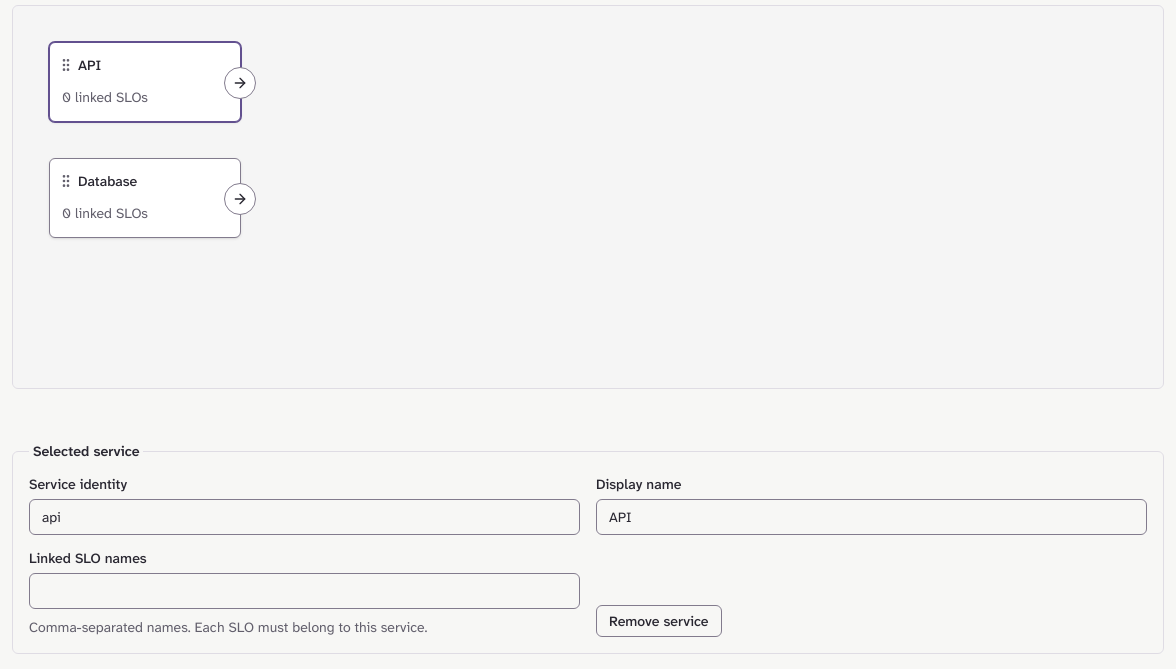
keyboard movement and non-drag connection form edit a draft without network writes
The width and height of the screenshot is (1176, 669).
Press ArrowRight in the button with aria-label "Move service api", box [50,43,240,87]
(page scrolled)
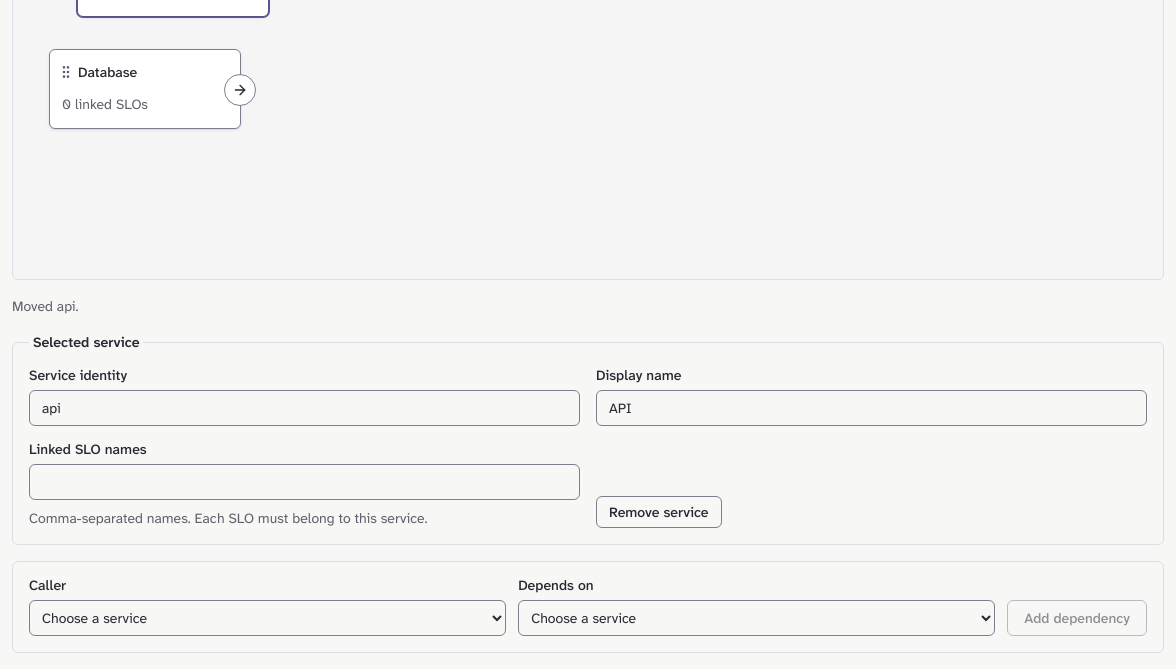
Select "API (api)" in the dropdown labelled "Caller" at (268, 618), box [29,600,506,636]
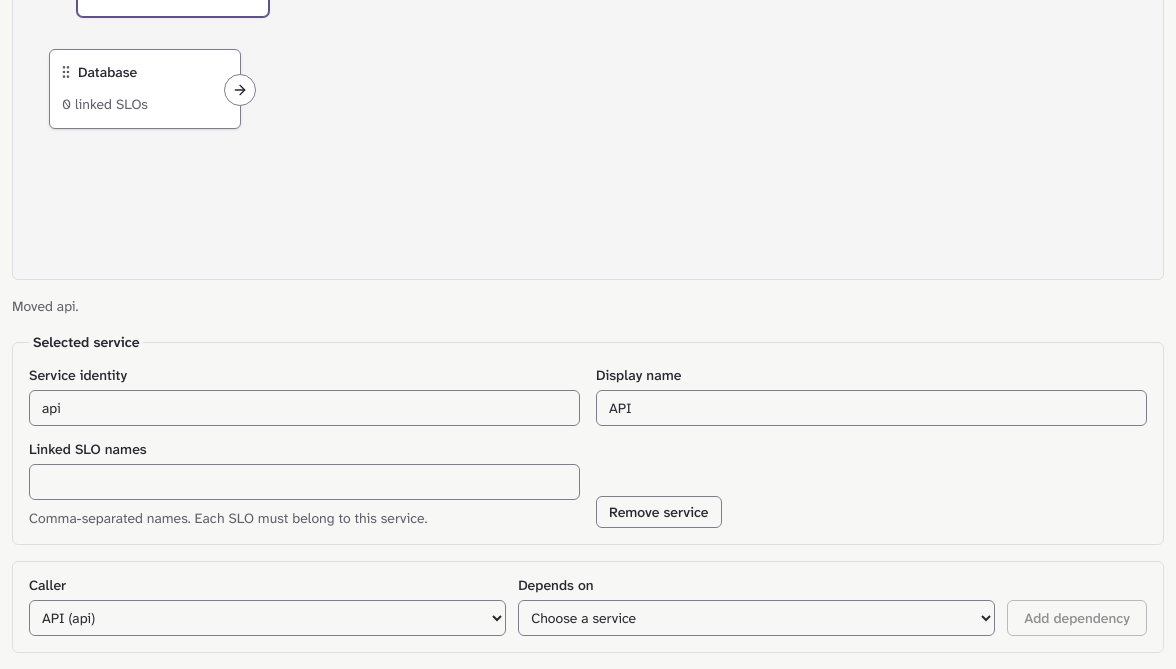
Select "Database (database)" in the dropdown labelled "Depends on" at (757, 618), box [518,600,995,636]
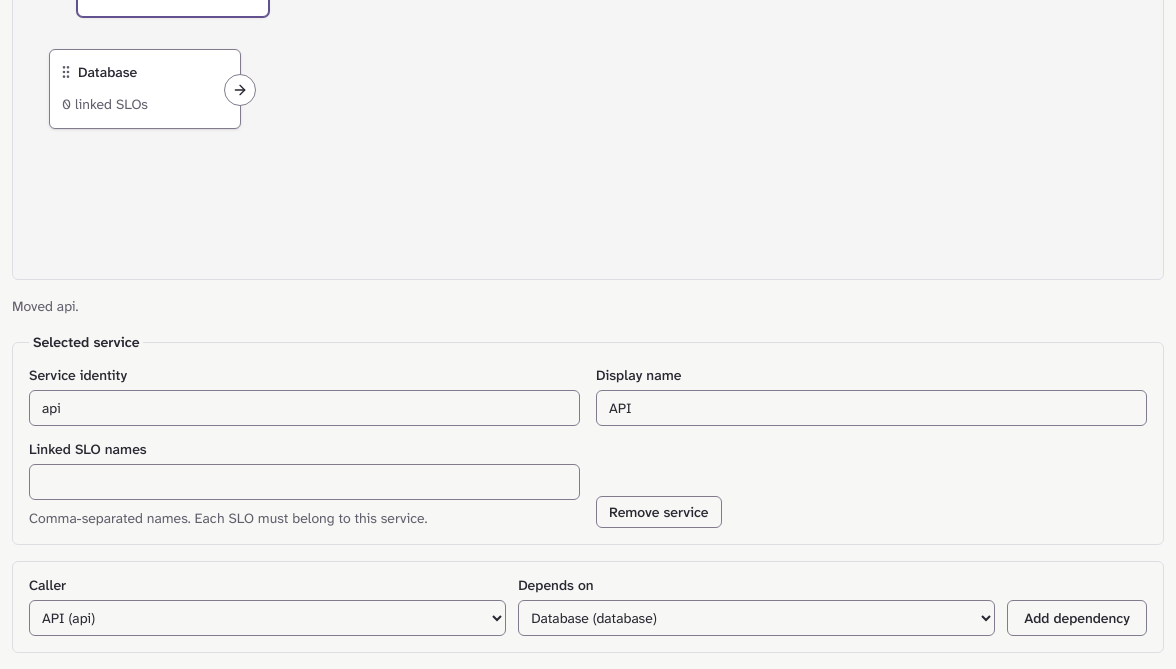
Submit the form, box [12,561,1164,653]
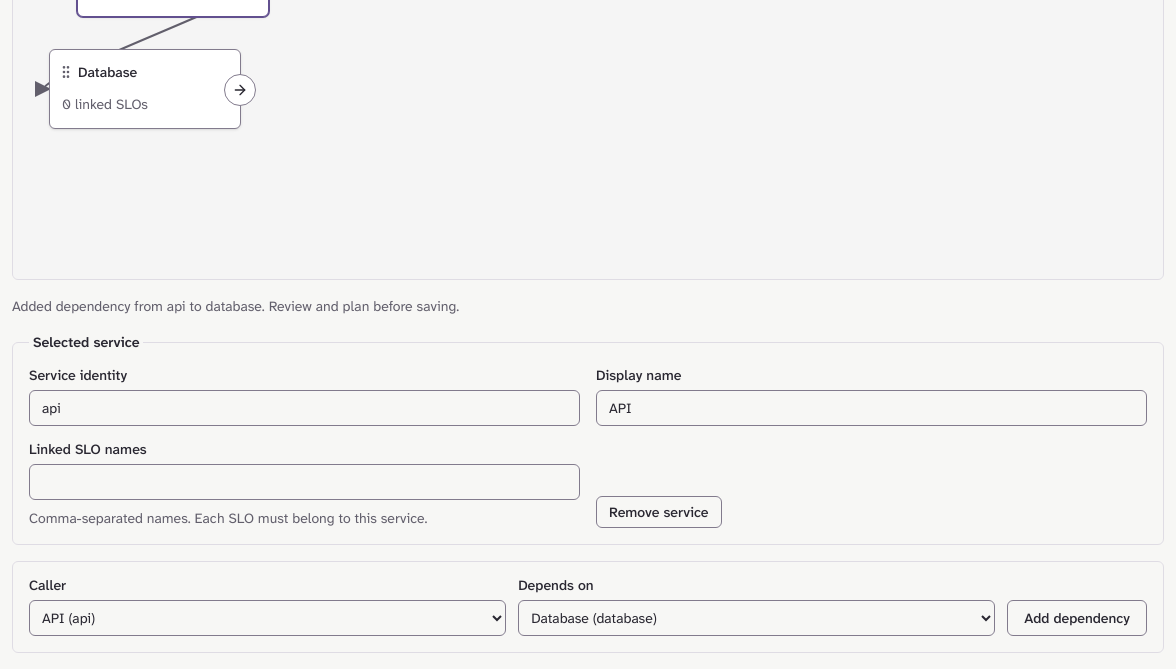
Now the message "Added dependency from api to database. Review and plan before saving." is shown, box [12,297,459,315]
